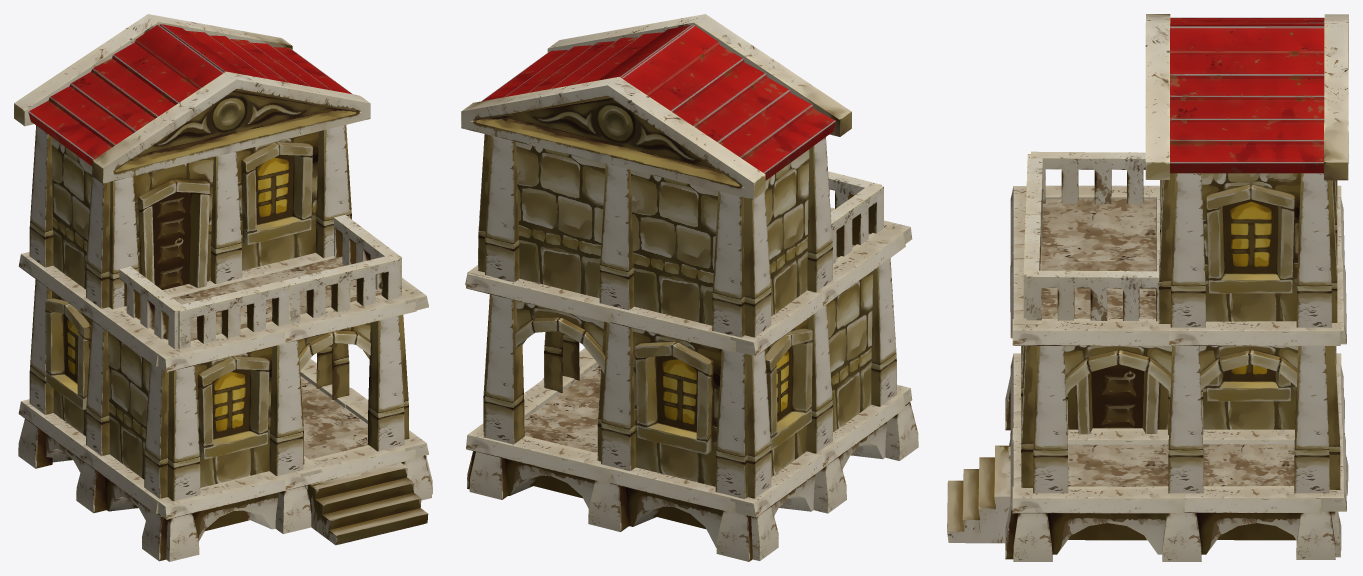
File: Rome_Village_Buildings_08.FBX
3 views of the same model, side by side, from view 1: azimuth 30°, elevation 25°; view 2: azimuth 150°, elevation 25°; view 3: azimuth 270°, elevation 25° (orthographic). The views are drawn at different scales.
Parts seen in each view (by area): view 1: Rome_Village_Buildings_08; view 2: Rome_Village_Buildings_08; view 3: Rome_Village_Buildings_08.
Boxes of the visible parts, box(x1,y1,x2,y2) form: Rome_Village_Buildings_08: box(14, 14, 432, 561); Rome_Village_Buildings_08: box(461, 14, 918, 561); Rome_Village_Buildings_08: box(947, 14, 1348, 561).
Size of the model in its own units: 585 by 827 by 653.
